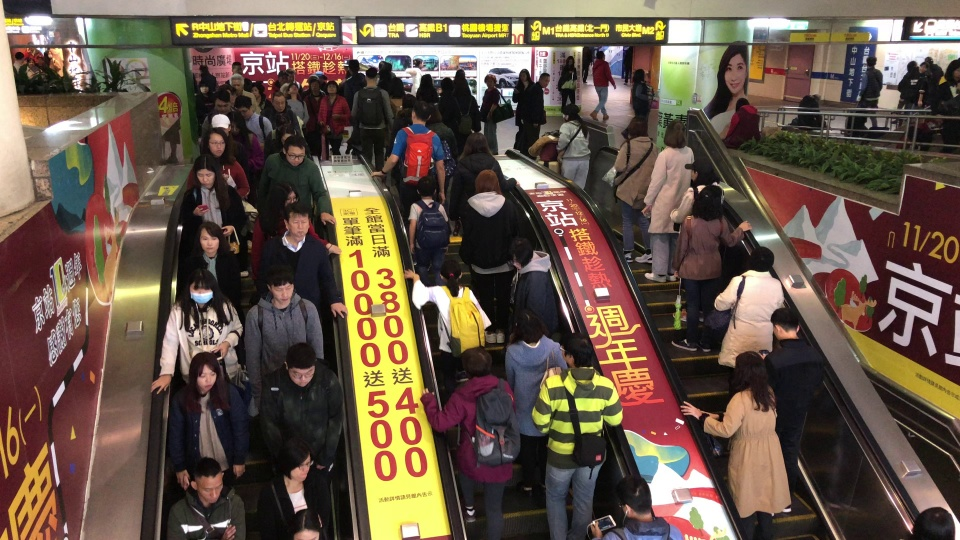person_head: (276, 436, 312, 483), (615, 474, 651, 518), (191, 457, 223, 504), (285, 342, 318, 387), (188, 350, 221, 391), (265, 263, 296, 305), (734, 350, 767, 389), (185, 268, 218, 303), (691, 185, 724, 219), (561, 332, 592, 366), (460, 345, 492, 377), (515, 308, 546, 341), (770, 307, 800, 340), (283, 201, 310, 237), (291, 508, 320, 540), (192, 154, 218, 188), (507, 235, 533, 269), (281, 135, 307, 166), (196, 222, 222, 252), (748, 246, 775, 272), (473, 169, 501, 194), (275, 180, 299, 209), (463, 132, 491, 156), (204, 128, 228, 155), (662, 119, 685, 146), (690, 158, 712, 182), (415, 175, 437, 198), (439, 258, 462, 280), (234, 95, 253, 120), (210, 113, 231, 135), (628, 115, 648, 138), (213, 89, 231, 114), (410, 100, 430, 122), (44, 49, 61, 72), (273, 113, 292, 131), (562, 103, 580, 122), (389, 77, 405, 95), (279, 126, 294, 145), (454, 78, 470, 95), (271, 91, 285, 110), (229, 73, 244, 90), (249, 82, 265, 97), (428, 103, 441, 121), (401, 93, 416, 108), (735, 97, 750, 112), (364, 67, 378, 83), (419, 73, 434, 87), (440, 76, 454, 91), (483, 73, 497, 88), (949, 59, 960, 78), (538, 72, 551, 88), (348, 59, 360, 75), (326, 80, 339, 94), (231, 61, 242, 76), (865, 55, 877, 68), (286, 68, 297, 82), (198, 80, 210, 92), (277, 71, 288, 84), (310, 78, 320, 92), (379, 69, 390, 81), (454, 68, 465, 80), (519, 68, 530, 80), (634, 68, 645, 80), (919, 61, 929, 73), (288, 84, 299, 94), (15, 51, 24, 63), (566, 54, 575, 66), (414, 57, 423, 68), (595, 50, 606, 59), (26, 57, 34, 67), (44, 50, 52, 59), (925, 55, 933, 64), (199, 64, 207, 72), (812, 93, 820, 101), (911, 66, 919, 74), (27, 41, 34, 49), (37, 55, 43, 64)
person_vbox: (678, 350, 792, 539), (418, 346, 521, 540), (531, 332, 624, 540), (756, 307, 824, 519), (670, 185, 752, 352), (148, 267, 243, 397), (258, 341, 344, 484), (403, 258, 491, 395), (503, 308, 568, 493), (166, 351, 250, 492), (243, 263, 324, 408), (457, 169, 521, 344), (256, 201, 349, 319), (250, 180, 341, 280), (713, 245, 785, 369), (641, 118, 694, 283), (369, 100, 447, 204), (256, 436, 332, 539), (255, 135, 337, 225), (447, 131, 521, 224), (612, 115, 658, 264), (165, 456, 246, 540), (587, 474, 683, 539), (180, 155, 246, 238), (507, 235, 560, 336), (405, 175, 450, 286), (350, 67, 394, 170), (185, 222, 242, 301), (186, 129, 250, 199), (669, 158, 720, 222), (555, 103, 591, 190), (202, 114, 249, 170), (522, 72, 552, 158), (318, 79, 350, 155), (620, 69, 652, 139), (428, 103, 457, 179), (720, 96, 761, 149), (854, 55, 883, 127), (387, 93, 418, 157), (233, 94, 273, 143), (448, 78, 482, 133), (479, 73, 501, 157), (590, 50, 616, 121), (260, 91, 301, 135), (200, 89, 230, 139), (264, 113, 294, 156), (229, 72, 260, 113), (194, 80, 214, 142), (797, 92, 829, 130), (342, 58, 366, 108), (910, 60, 931, 116), (303, 78, 325, 130), (511, 68, 530, 128), (558, 55, 578, 112), (285, 84, 309, 130), (938, 60, 959, 99), (903, 66, 919, 114), (405, 56, 423, 96), (416, 73, 438, 105), (249, 87, 271, 116), (23, 41, 43, 63), (271, 70, 288, 95), (622, 44, 632, 86), (582, 44, 591, 84), (26, 59, 42, 78), (13, 51, 24, 71)
